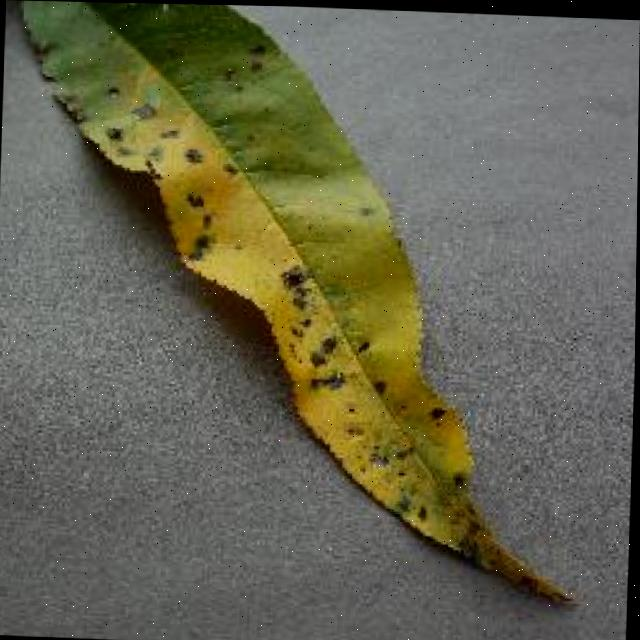Bacterial_spot: (0, 0, 612, 628)
